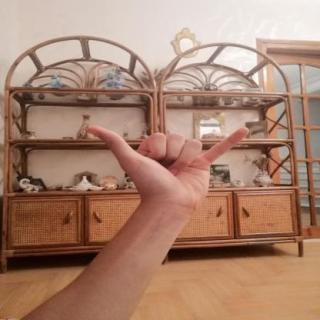YA: (72, 112, 258, 216)
